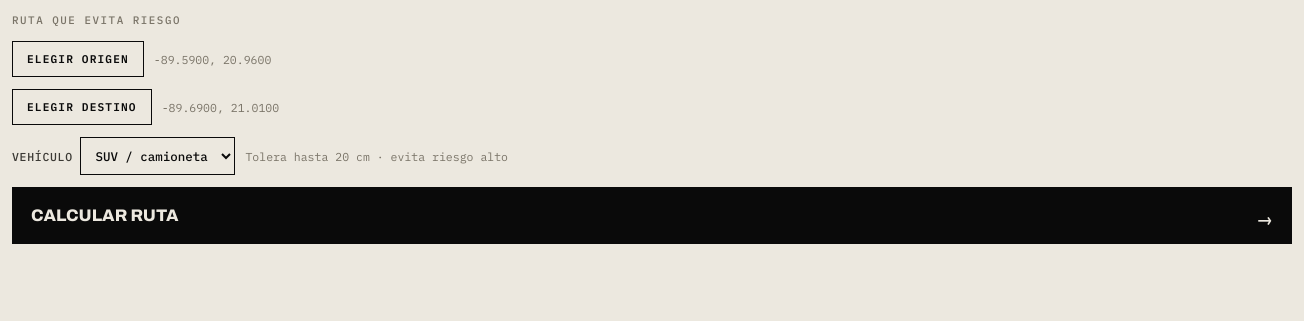
Test: RoutePanel › C002-4: 404 ROUTE_NOT_FOUND muestra error.message
Click the button "Calcular ruta".
click(105, 216)  # box [12,187,1292,244]
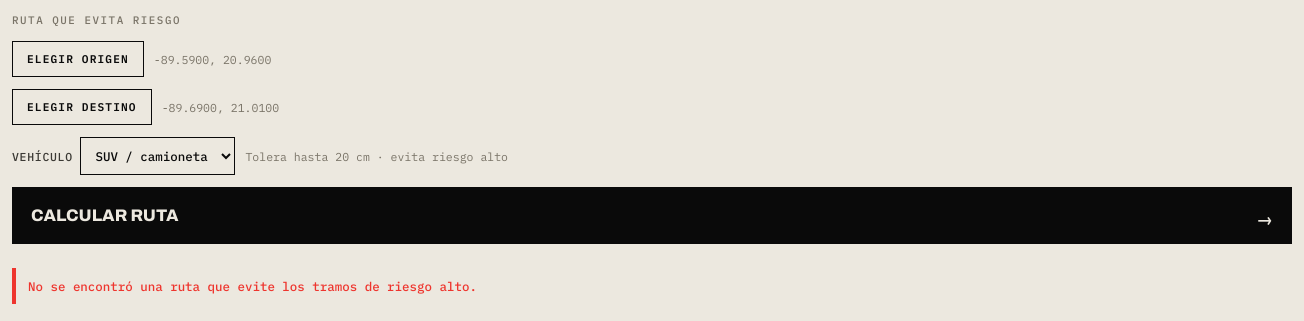
expect the message shows "No se encontró una ruta que evite": met, box [28,278,477,294]
